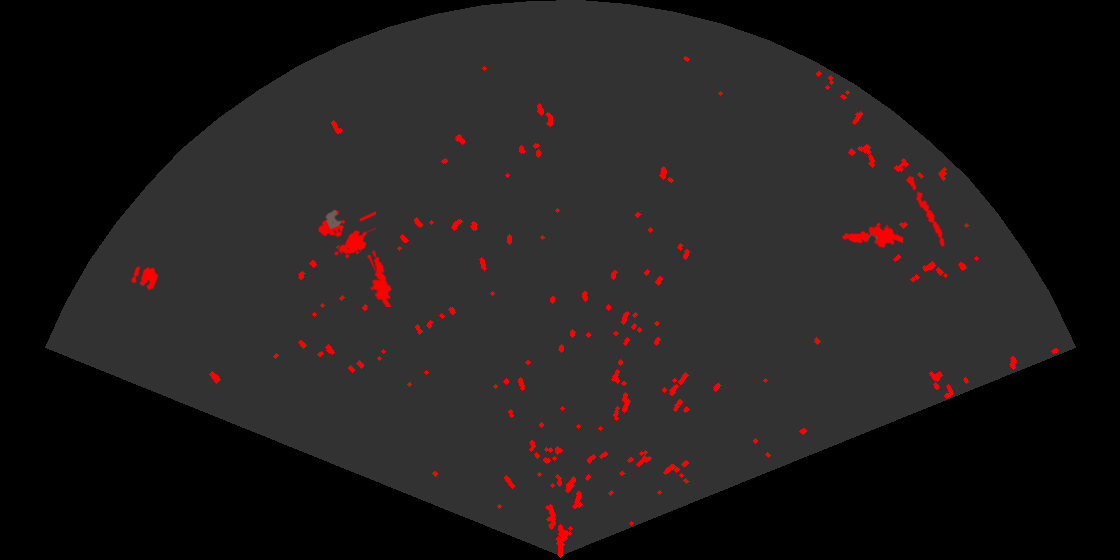ball: (130, 264, 160, 292)
cage: (317, 208, 376, 275)
chain: (901, 166, 946, 249)
frogman: (840, 221, 903, 250), (369, 255, 393, 307)
